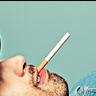Cigarette: (36, 31, 70, 71)
